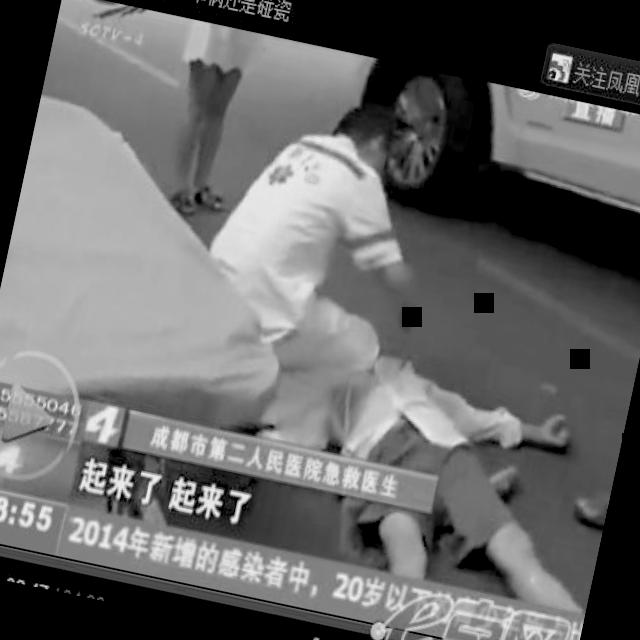Fall-Detected: (282, 304, 636, 640)
